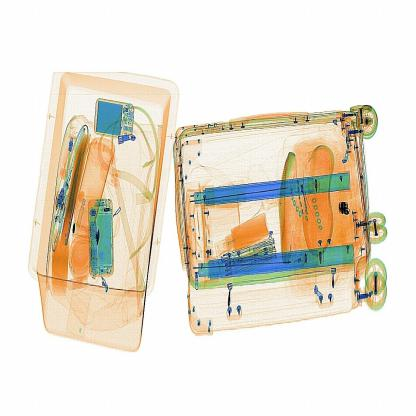scissors: (335, 197, 352, 219)
